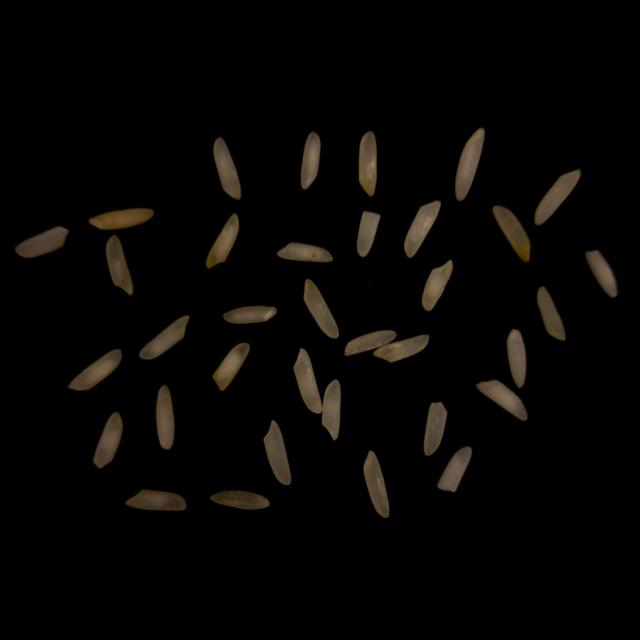Broken: (491, 204, 530, 263), (213, 342, 251, 392), (436, 445, 474, 493), (91, 412, 123, 468), (88, 207, 156, 230), (209, 489, 270, 510), (424, 402, 448, 454), (355, 210, 380, 257)
Full: (534, 168, 582, 225), (454, 128, 487, 201), (69, 348, 122, 392), (138, 315, 189, 360), (476, 378, 528, 422), (302, 279, 340, 339), (403, 201, 441, 259), (293, 348, 323, 413), (264, 419, 292, 485), (363, 451, 390, 519), (105, 234, 134, 296), (213, 135, 240, 199), (208, 212, 240, 266), (15, 227, 68, 258), (373, 335, 431, 363), (537, 286, 567, 340), (586, 250, 618, 298), (423, 260, 453, 311), (124, 488, 184, 512), (506, 328, 528, 389), (155, 384, 175, 451), (322, 379, 342, 442), (300, 133, 322, 190), (359, 131, 378, 195), (345, 330, 395, 354), (276, 242, 333, 262), (222, 306, 277, 324)
